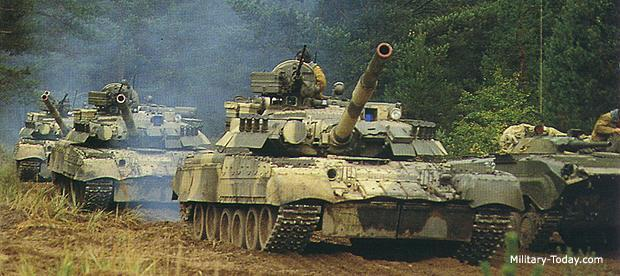tank: (171, 42, 526, 264), (49, 82, 213, 213), (495, 125, 620, 256), (14, 91, 75, 179)
